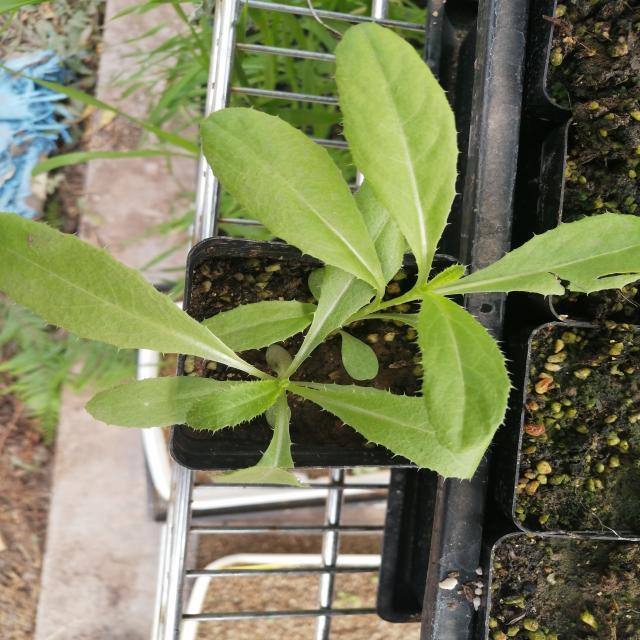field_thistle: (10, 68, 542, 476)
